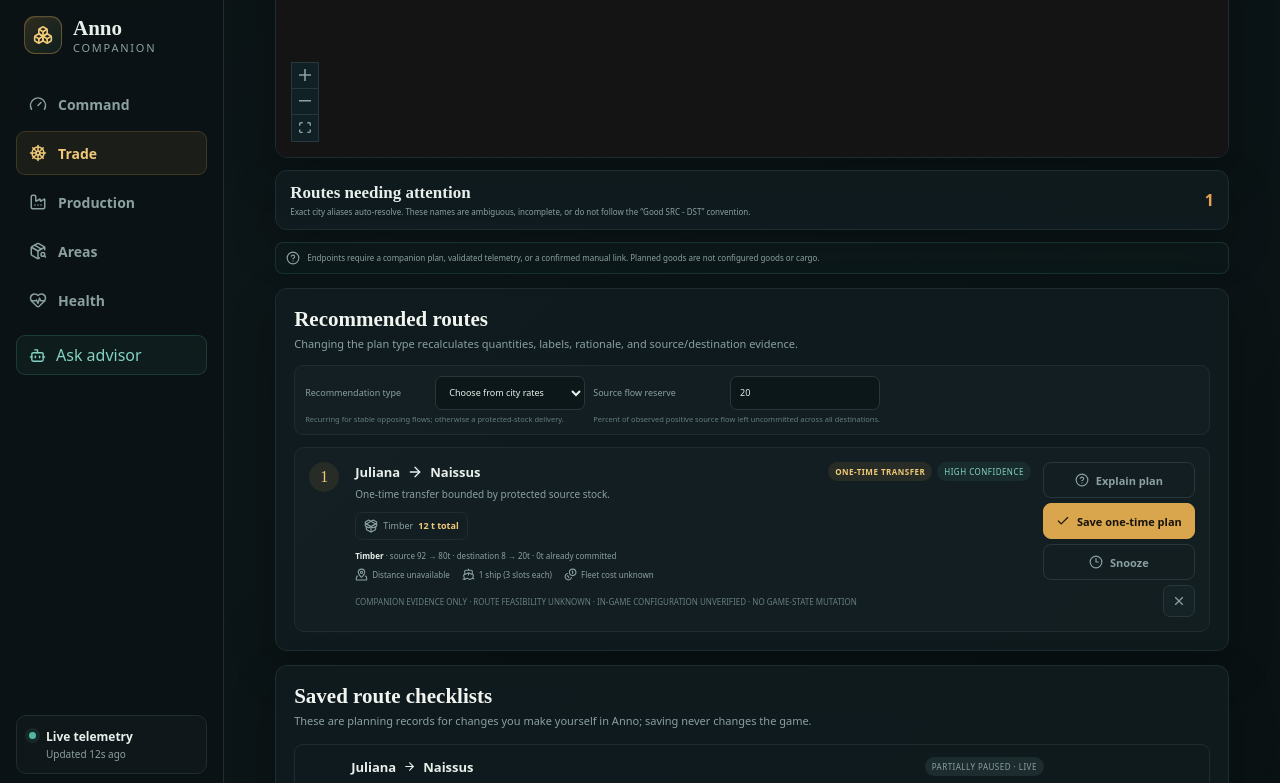
Test: first-class management dashboard › recalculates recurring routes as rates and keeps ship sizing unknown without trip time
(page scrolled)
Select "Recurring supply" in the dropdown labelled "Recommendation type" at x=510, y=393, box [435, 376, 585, 410]
(page scrolled)
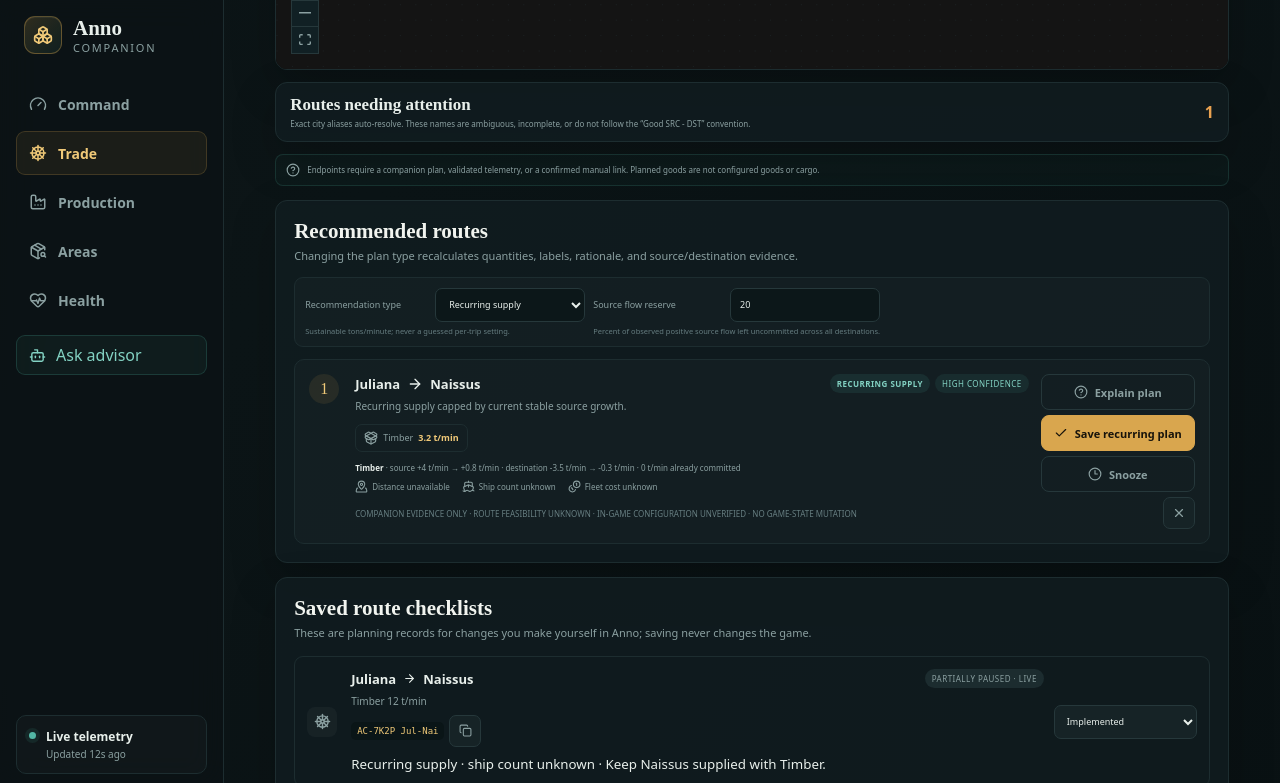
Result: the text "3.2 t/min" is shown at [418, 431, 459, 444]
Result: the text "Ship count unknown" is shown at [462, 480, 556, 493]
Click the button "Explain plan".
click(1118, 392)  # box [1041, 374, 1195, 410]
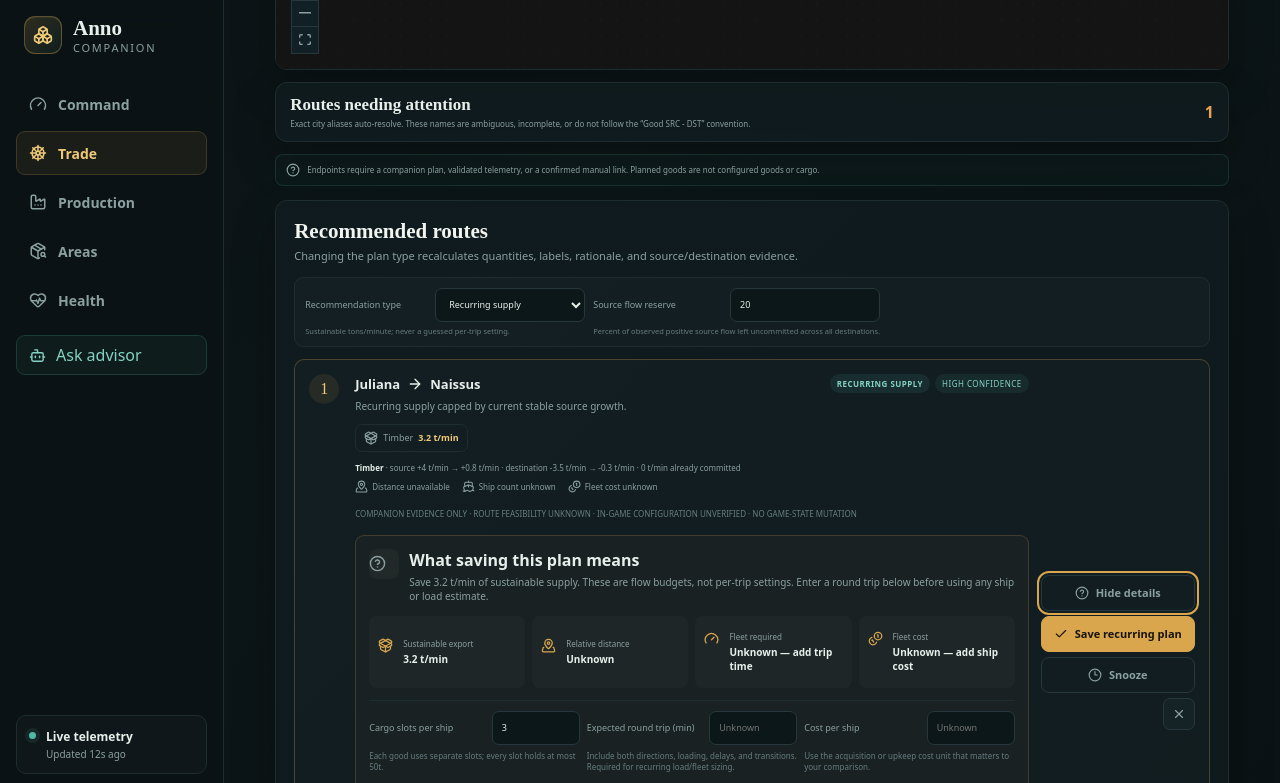
Type "10" into the number field named "Round trip for Juliana to Naissus".
click(753, 728); type("10")  # box [709, 711, 797, 745]
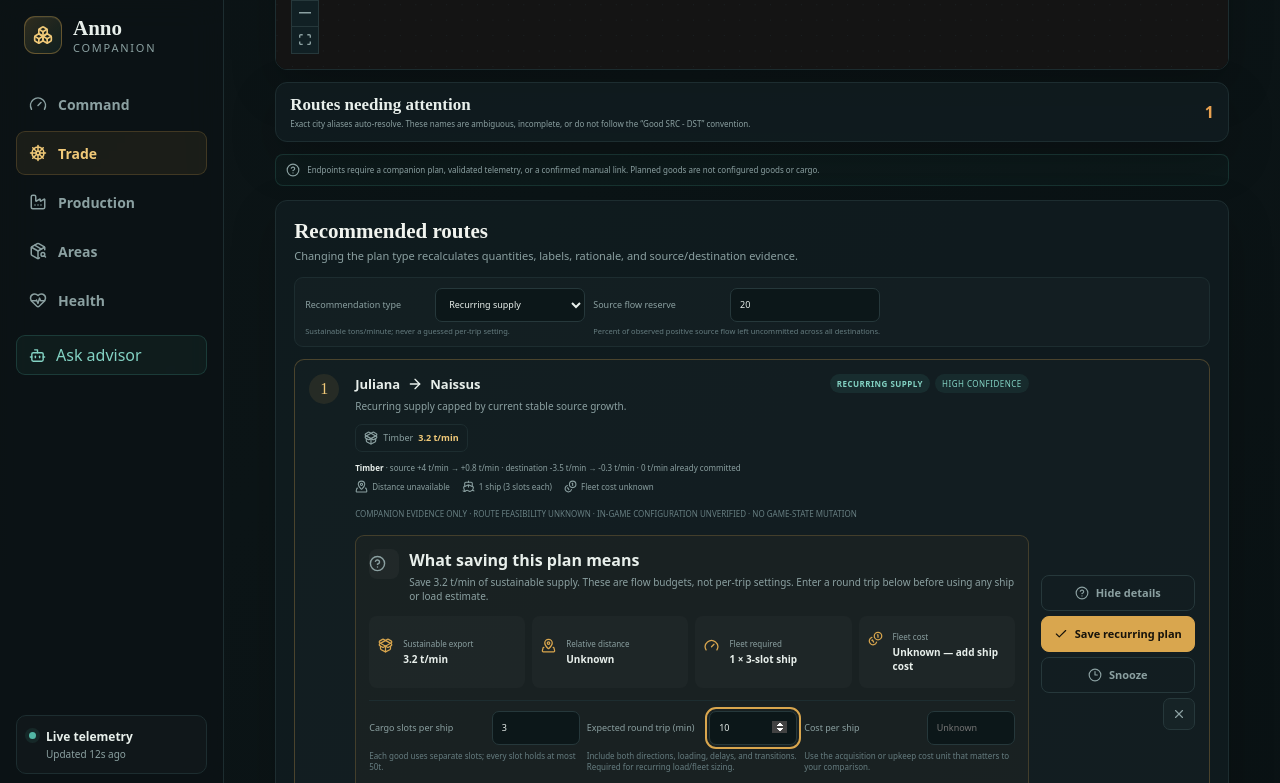
Type "1000" into the number field named "Ship cost for Juliana to Naissus".
click(971, 728); type("1000")  # box [927, 711, 1015, 745]
(page scrolled)
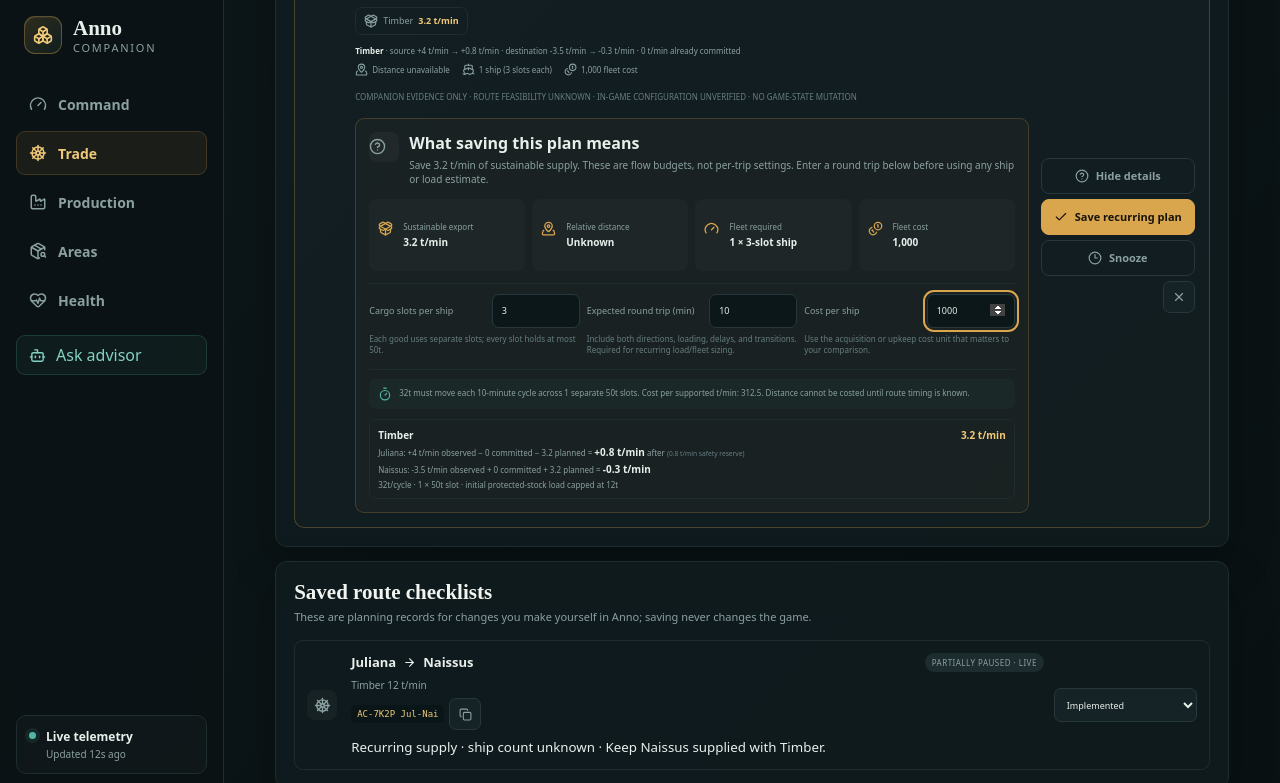
Result: the text "32t must move each 10-minute cycle" is shown at [399, 387, 640, 398]
Result: the text "cost per supported t/min: 312.5" is shown at [640, 387, 764, 398]
